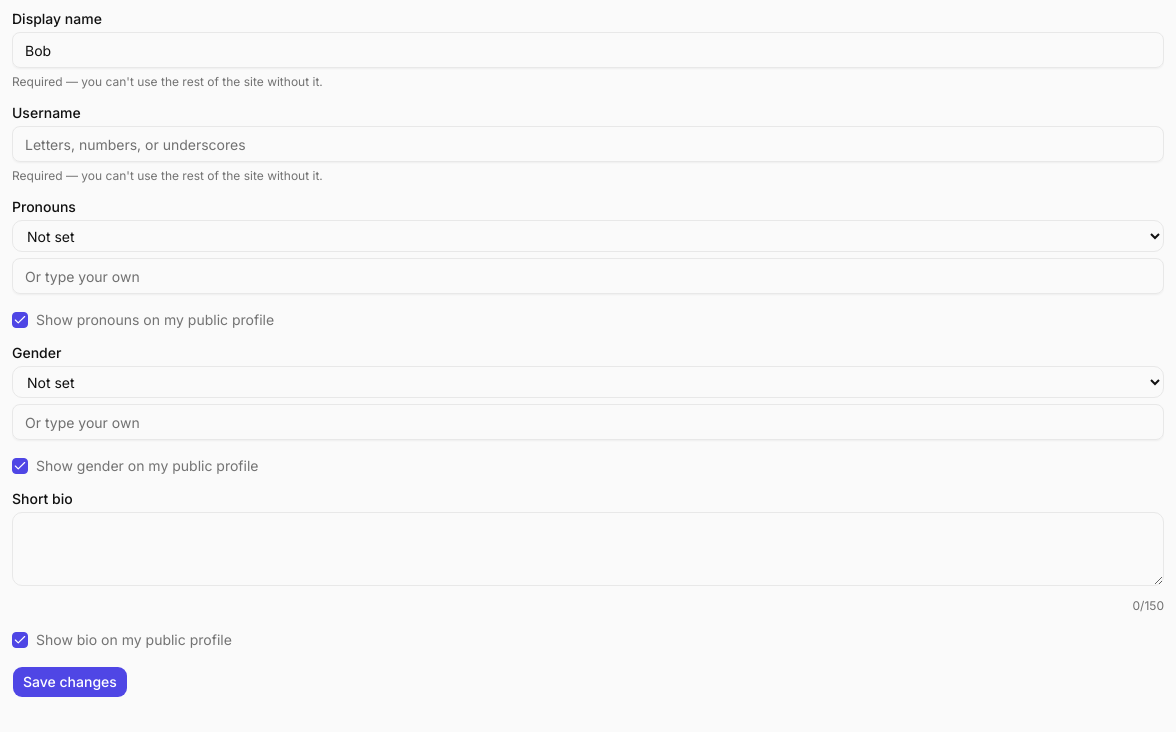
Test: ProfileForm bio character countdown › shows 0/150 with no bio, and updates live as the user types
Expected: the text "0/150" is shown, [1132, 598, 1164, 613]
Type "Just here to predict some outcomes." into the text box labelled "Short bio" at (588, 549), box [12, 512, 1164, 586]
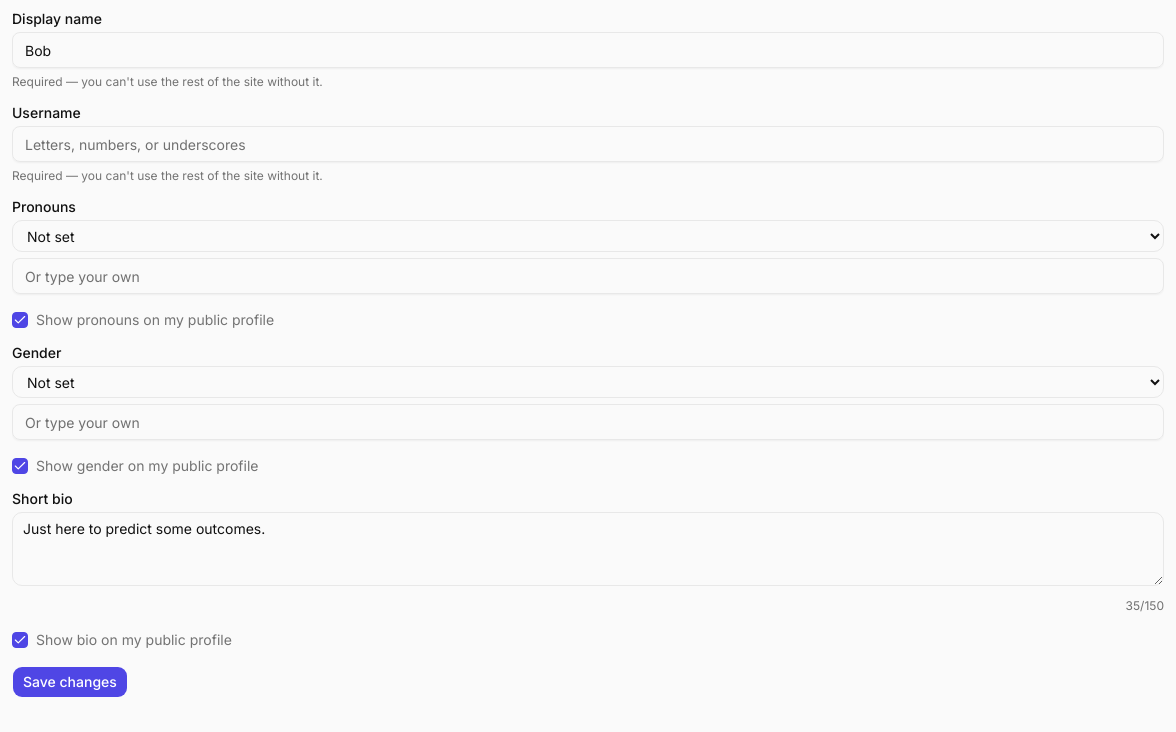
Now the text "35/150" is shown, box [1126, 598, 1164, 613]
